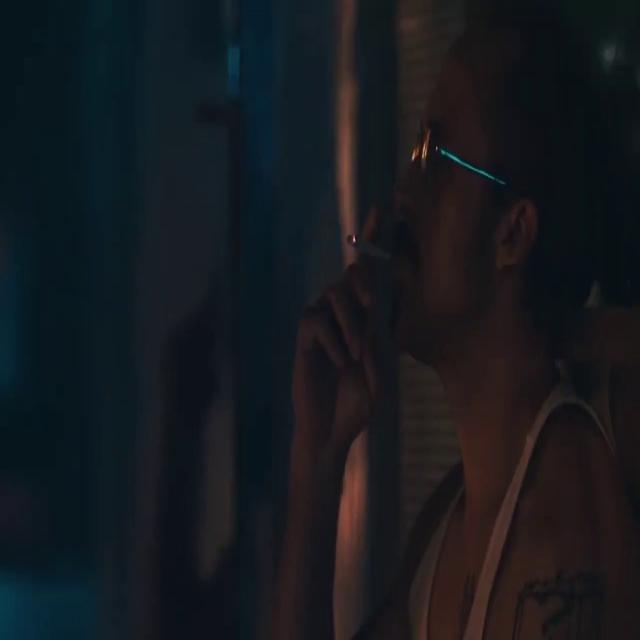Smooking: (341, 220, 382, 268)
